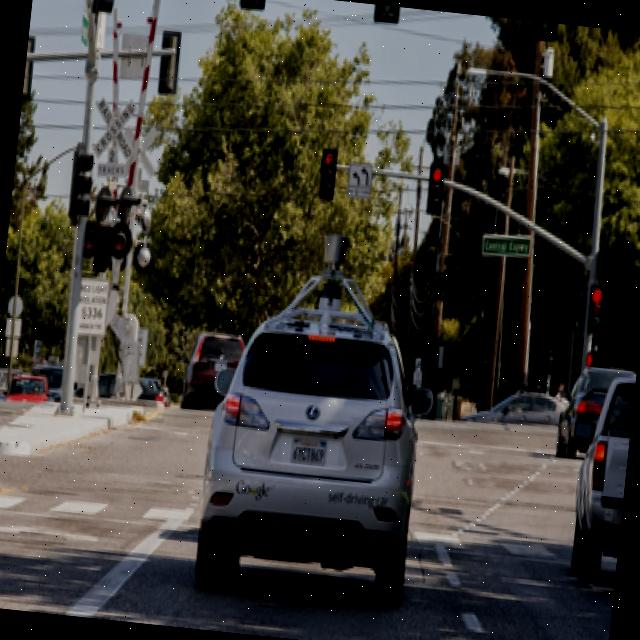Autre: (286, 426, 328, 469)
